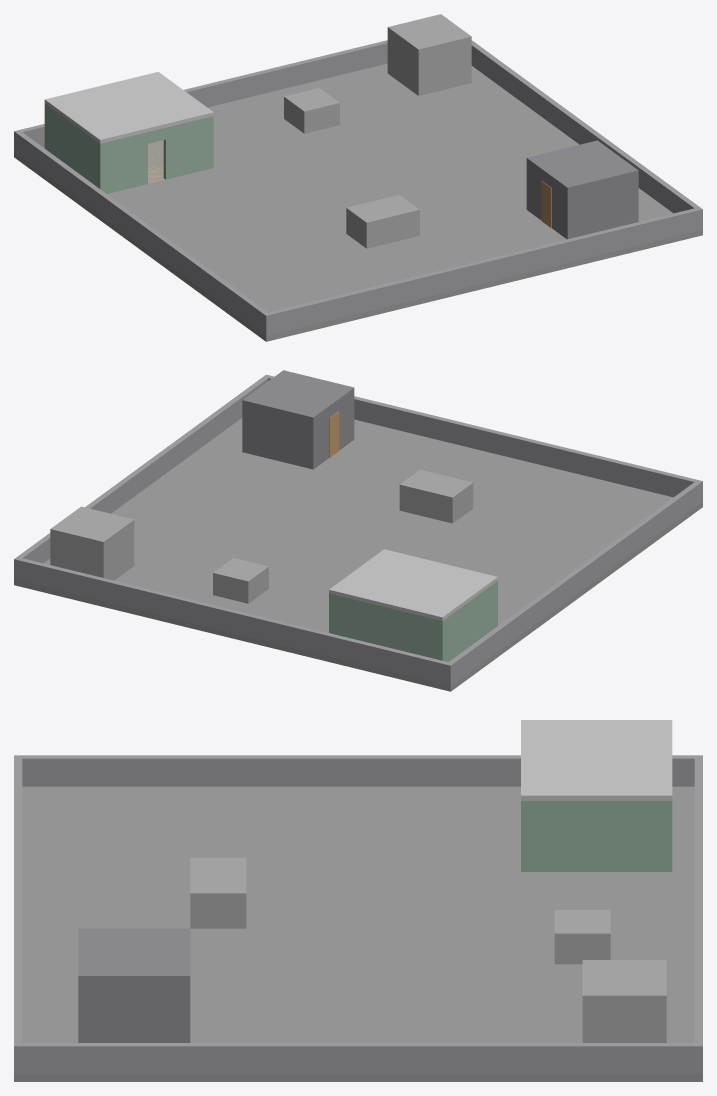
The model's file is roof.glb.
3 renders of one model, top to bottom at view 1: azimuth 30°, elevation 25°; view 2: azimuth 150°, elevation 25°; view 3: azimuth 270°, elevation 25°, orthographic. The views are drawn at different scales.
Visible parts, largest first — view 1: Roof_Floor, Parapet_S, Stair_Bulkhead, SafeHouse_Ceiling, Parapet_W, Water_Tank, Parapet_N, Parapet_E, HVAC, SafeHouse_Wall_S_3, SafeHouse_Wall_S_1, SafeHouse_Wall_W_1 (+2 smaller); view 2: Roof_Floor, Parapet_N, Stair_Bulkhead, Parapet_S, SafeHouse_Ceiling, Parapet_W, Water_Tank, SafeHouse_Wall_N_1, Parapet_E, HVAC, SafeHouse_Wall_W_1, HVAC_2; view 3: Roof_Floor, Parapet_E, Parapet_W, Stair_Bulkhead, SafeHouse_Ceiling, SafeHouse_Wall_E_1, Water_Tank, HVAC, HVAC_2, Parapet_N, Parapet_S.
Part boxes in pixels (bbox=[...]): Roof_Floor: bbox=[14, 63, 702, 341]; Parapet_S: bbox=[263, 207, 702, 336]; Stair_Bulkhead: bbox=[526, 140, 638, 239]; SafeHouse_Ceiling: bbox=[44, 71, 213, 143]; Parapet_W: bbox=[17, 132, 267, 333]; Water_Tank: bbox=[387, 14, 471, 95]; Parapet_N: bbox=[14, 40, 387, 153]; Parapet_E: bbox=[471, 40, 699, 213]; HVAC: bbox=[346, 194, 419, 248]; SafeHouse_Wall_S_3: bbox=[163, 116, 213, 179]; SafeHouse_Wall_S_1: bbox=[98, 132, 147, 193]; SafeHouse_Wall_W_1: bbox=[47, 105, 97, 187]; Roof_Floor: bbox=[14, 418, 702, 691]; Parapet_N: bbox=[14, 557, 453, 685]; Stair_Bulkhead: bbox=[242, 370, 354, 469]; Parapet_S: bbox=[263, 374, 702, 503]; SafeHouse_Ceiling: bbox=[329, 549, 497, 620]; Parapet_W: bbox=[449, 482, 699, 683]; Water_Tank: bbox=[50, 506, 134, 580]; SafeHouse_Wall_N_1: bbox=[329, 593, 444, 660]; Parapet_E: bbox=[17, 377, 268, 563]; HVAC: bbox=[399, 469, 473, 523]; SafeHouse_Wall_W_1: bbox=[444, 582, 495, 661]; HVAC_2: bbox=[213, 558, 268, 603]; Roof_Floor: bbox=[14, 786, 702, 1081]; Parapet_E: bbox=[22, 1043, 694, 1074]; Parapet_W: bbox=[22, 755, 694, 786]; Stair_Bulkhead: bbox=[78, 928, 190, 1042]; SafeHouse_Ceiling: bbox=[521, 720, 672, 800]; SafeHouse_Wall_E_1: bbox=[526, 801, 666, 871]; Water_Tank: bbox=[582, 960, 666, 1042]; HVAC: bbox=[190, 857, 246, 928]; HVAC_2: bbox=[554, 910, 610, 964]; Parapet_N: bbox=[694, 755, 702, 1074]; Parapet_S: bbox=[14, 755, 22, 1074].
Size of the model in its own units: 24.6 by 3.3 by 24.6.
